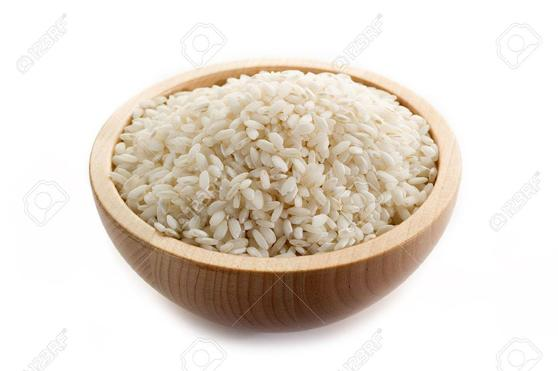rice: (179, 86, 388, 217)
